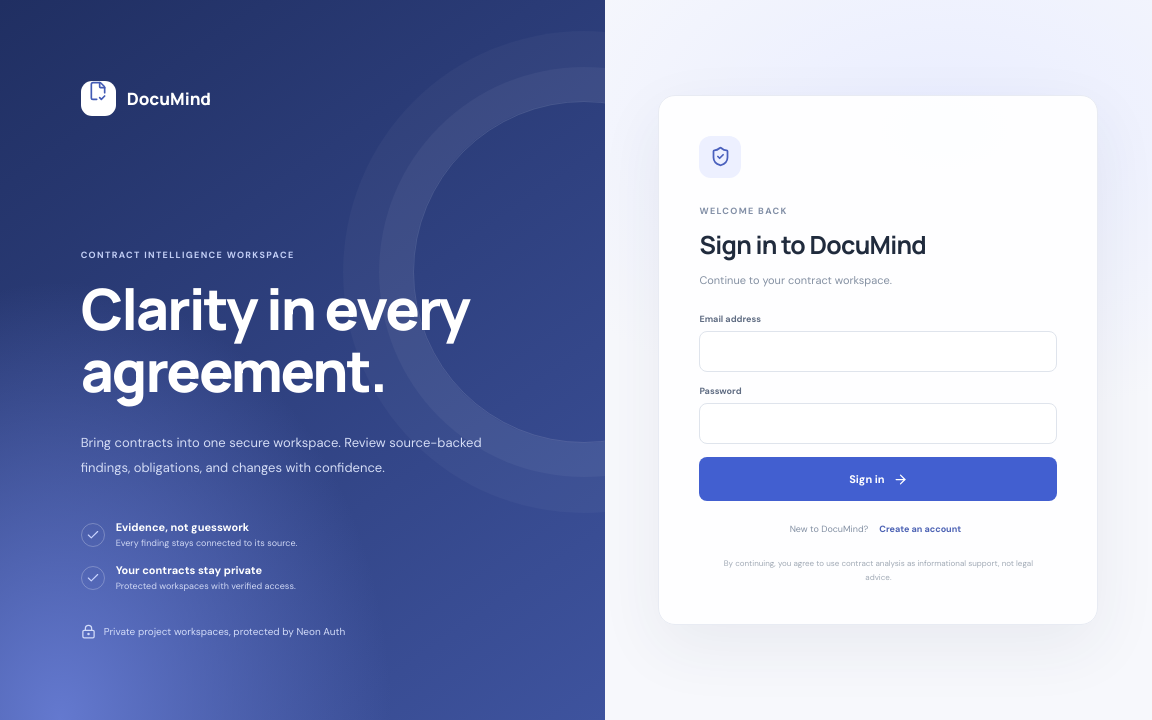
Test: AuthScreen › shows a Neon Auth error instead of silently reporting success
The image size is (1152, 720).
Type "person@example.test" into the field labelled "Email address" at (878, 352), box [699,331,1057,372]
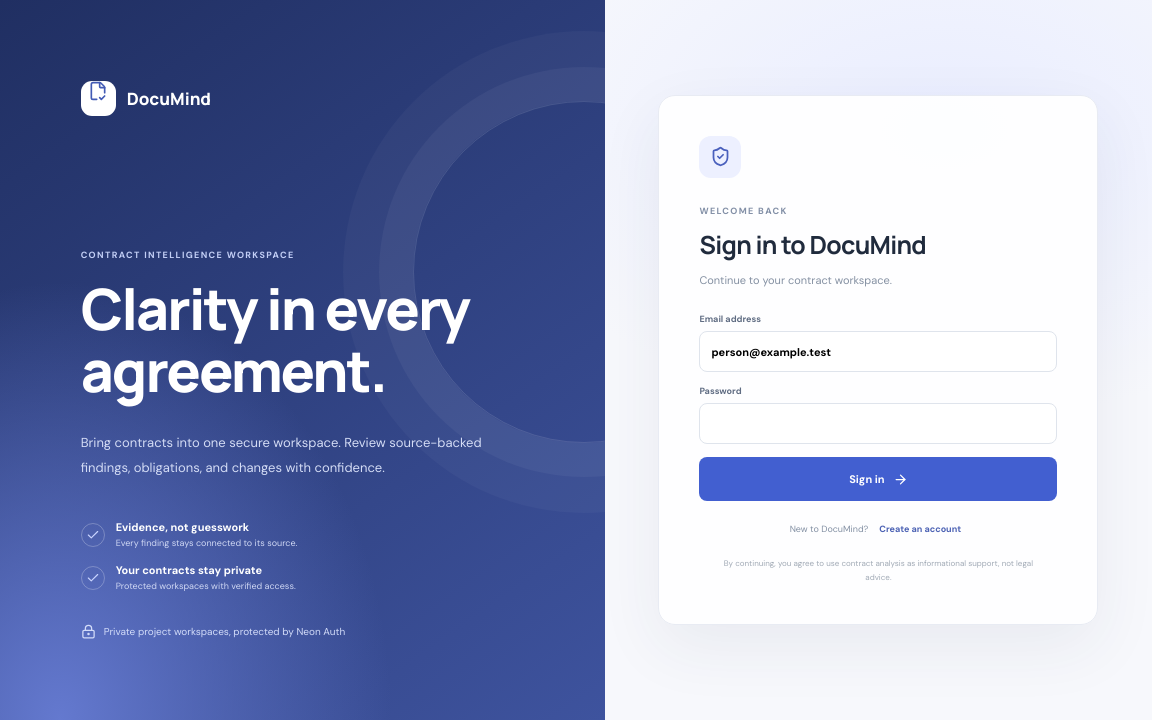
Type "wrong-password" into the password field labelled "Password" at (878, 424), box [699,403,1057,444]
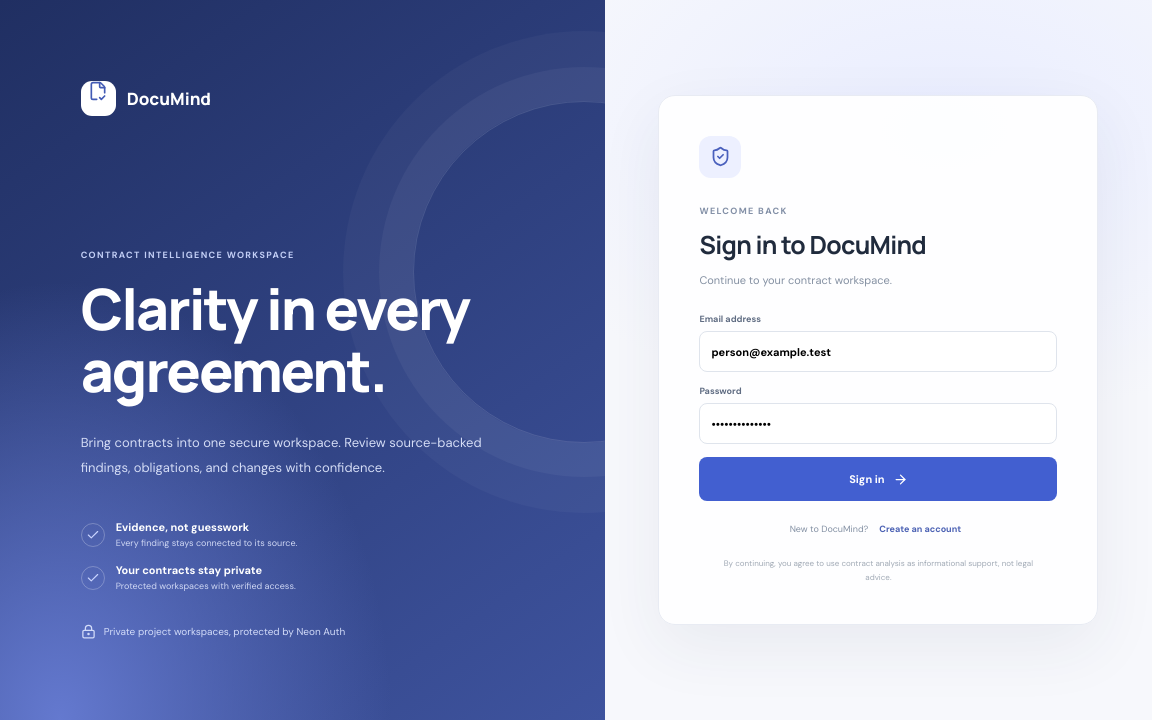
Click the button "Sign in" at (878, 479), box [699,457,1057,501]
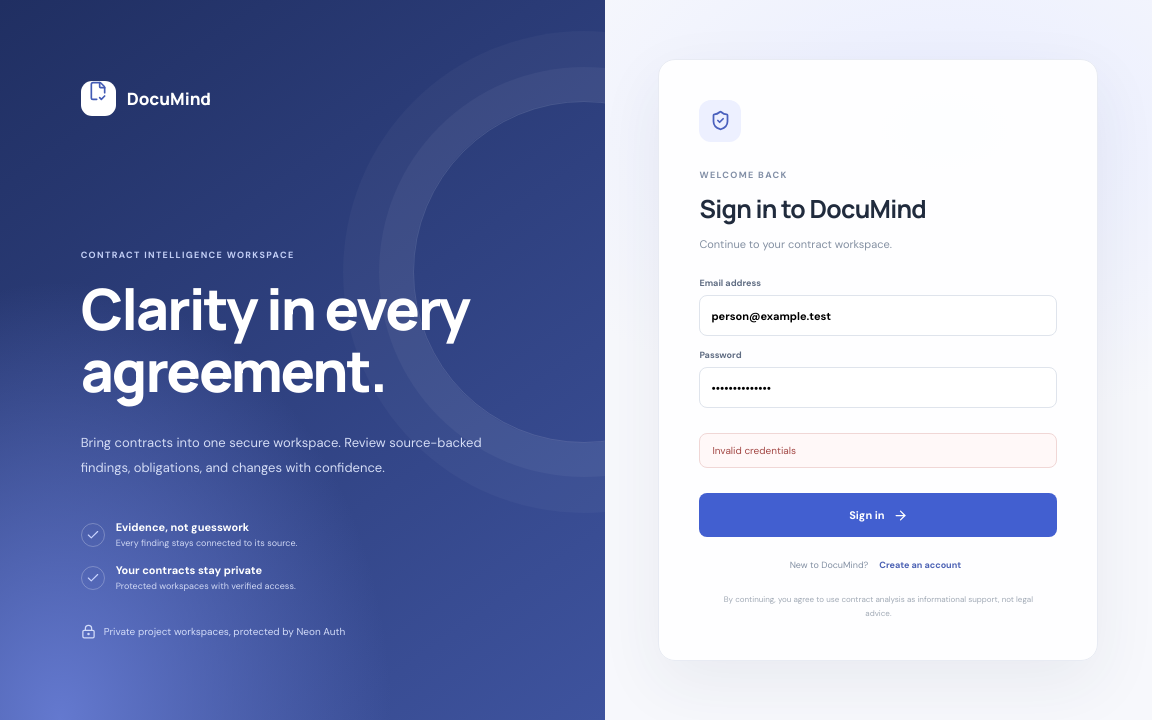
Check: the message reads "Invalid credentials", box [712,444,796,457]
